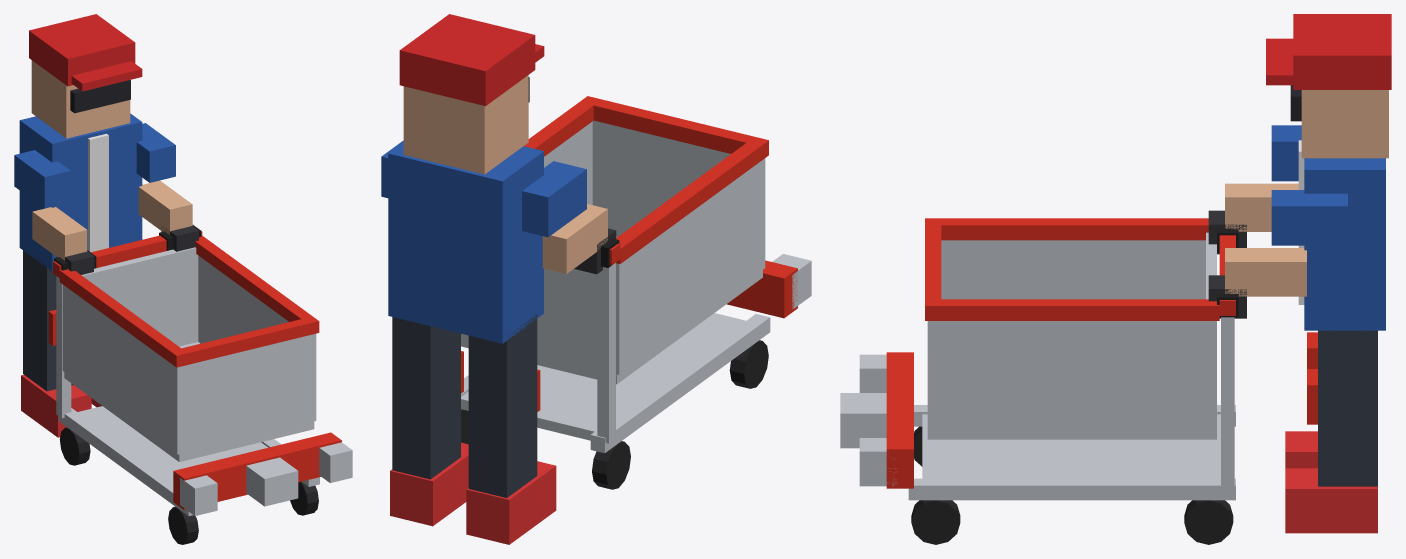
Rendered from ShopperCartFighter.obj.
3 renders of one model, left to right at view 1: azimuth 30°, elevation 25°; view 2: azimuth 150°, elevation 25°; view 3: azimuth 270°, elevation 25°, orthographic. The views are drawn at different scales.
Parts seen in each view (by area): view 1: Cart_Metal, Cart_Bumper, Character_Jacket, Character_Skin, Character_Cap, Character_Pants, Character_Shirt, Cart_Wheels, Character_Shoes, Character_Goggles, Character_Gloves; view 2: Cart_Metal, Character_Jacket, Character_Pants, Cart_Bumper, Character_Skin, Character_Cap, Character_Shoes, Cart_Wheels, Character_Gloves; view 3: Cart_Metal, Cart_Bumper, Character_Jacket, Character_Skin, Character_Pants, Character_Cap, Character_Shoes, Cart_Wheels, Character_Gloves.
Boxes of the visible parts, <box> form: Cart_Metal: <box>56,247,352,516</box>; Cart_Bumper: <box>48,231,341,510</box>; Character_Jacket: <box>14,113,175,271</box>; Character_Skin: <box>31,60,192,260</box>; Character_Cap: <box>29,14,142,91</box>; Character_Pants: <box>23,250,73,391</box>; Character_Shirt: <box>88,133,108,252</box>; Cart_Wheels: <box>59,427,318,544</box>; Character_Shoes: <box>21,375,101,437</box>; Character_Goggles: <box>70,80,130,113</box>; Character_Gloves: <box>56,226,198,274</box>; Cart_Metal: <box>461,120,811,453</box>; Character_Jacket: <box>381,140,586,343</box>; Character_Pants: <box>392,314,537,497</box>; Cart_Bumper: <box>461,96,797,411</box>; Character_Skin: <box>403,75,607,273</box>; Character_Cap: <box>399,14,544,106</box>; Character_Shoes: <box>390,442,556,544</box>; Cart_Wheels: <box>461,340,768,489</box>; Character_Gloves: <box>574,228,616,274</box>; Cart_Metal: <box>840,232,1235,500</box>; Cart_Bumper: <box>886,218,1317,488</box>; Character_Jacket: <box>1271,125,1385,330</box>; Character_Skin: <box>1225,90,1388,296</box>; Character_Pants: <box>1318,330,1377,486</box>; Character_Cap: <box>1266,14,1391,89</box>; Character_Shoes: <box>1285,431,1377,533</box>; Cart_Wheels: <box>911,426,1233,544</box>; Character_Gloves: <box>1208,210,1246,318</box>.
Size of the model in its own units: 0.84 by 1.9 by 2.02.
